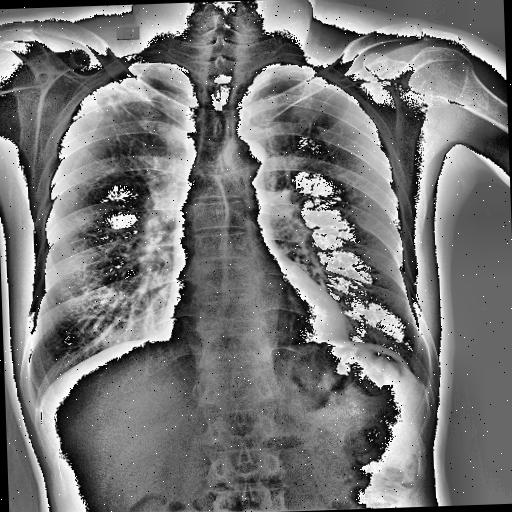13- Pulmonary fibrosis: (80, 73, 156, 146), (96, 85, 138, 142), (102, 86, 146, 130)
